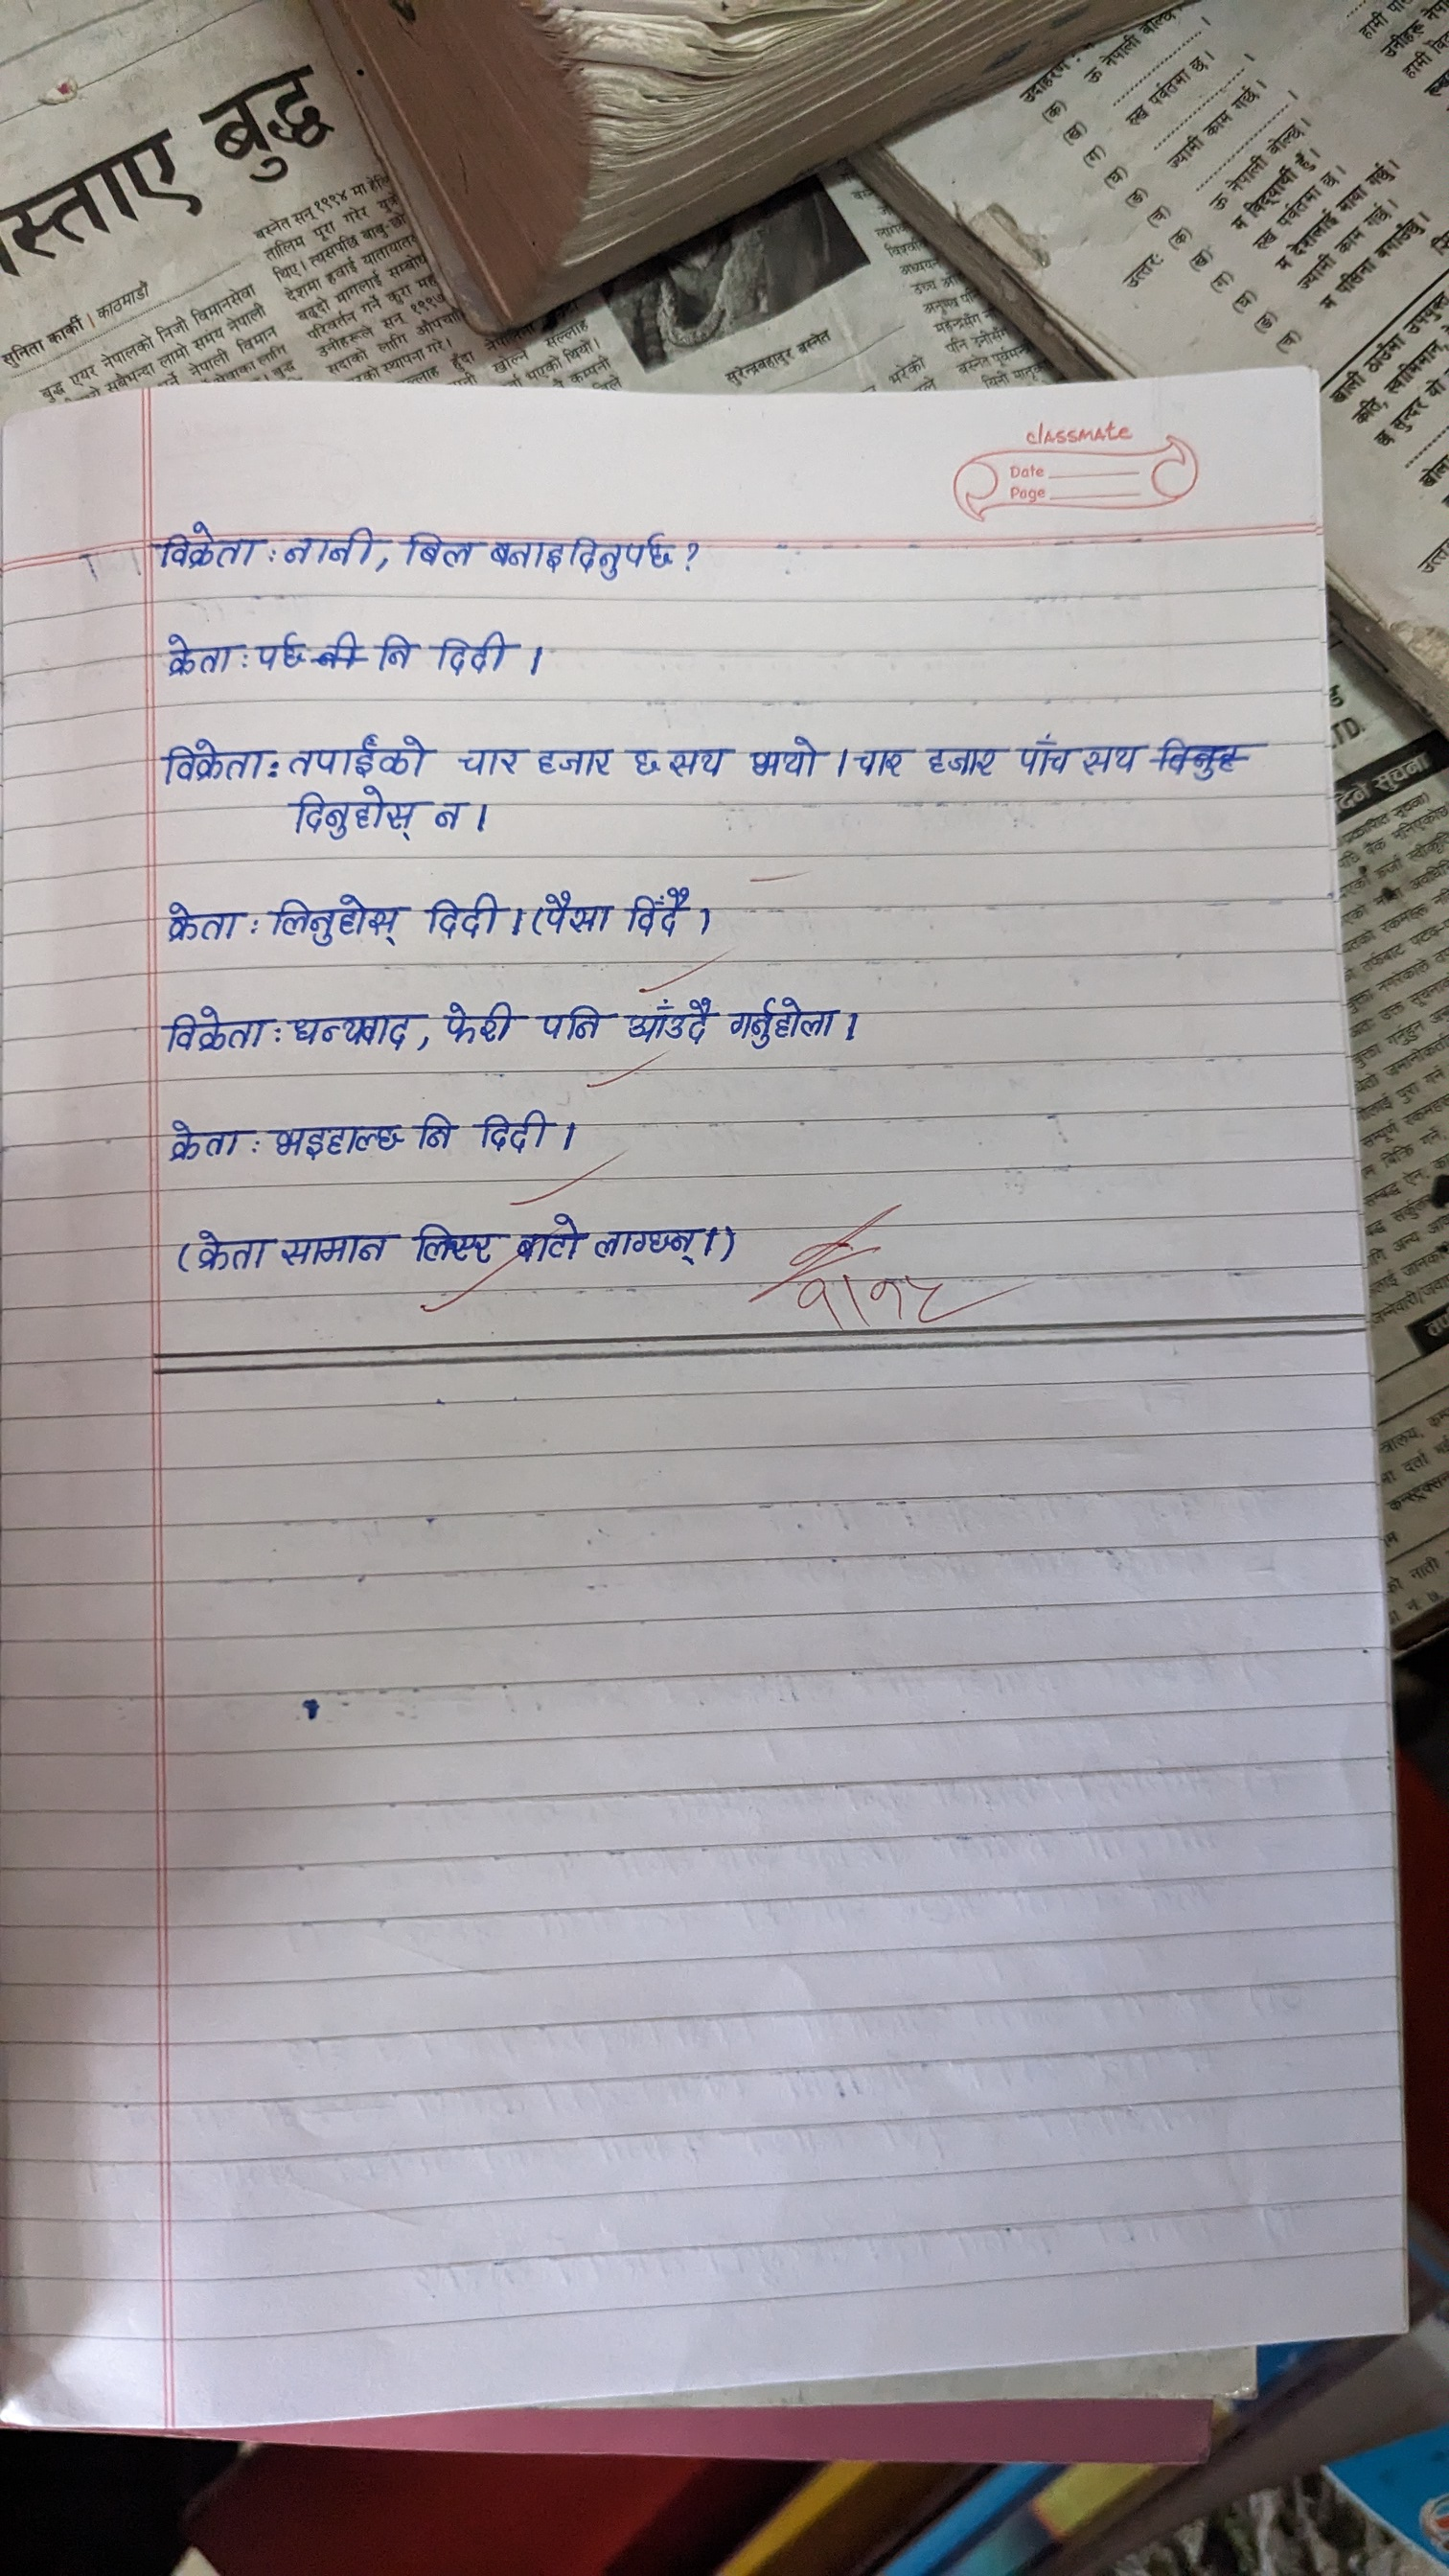text: (265, 1106, 407, 1175), (488, 531, 681, 580), (281, 1210, 395, 1283), (285, 1008, 426, 1062), (269, 893, 409, 945), (287, 789, 416, 844), (285, 732, 432, 780), (727, 993, 839, 1051), (600, 1212, 711, 1270), (156, 734, 265, 791), (157, 1007, 267, 1063), (152, 513, 260, 570), (515, 1207, 587, 1281), (416, 1210, 488, 1283), (280, 524, 375, 577), (628, 996, 717, 1049), (414, 1095, 469, 1178), (154, 628, 242, 679), (157, 897, 246, 947), (159, 1122, 248, 1171), (179, 1226, 267, 1276), (536, 994, 607, 1054), (402, 520, 474, 577), (439, 994, 508, 1053), (432, 623, 510, 674), (425, 888, 502, 939), (534, 888, 612, 939), (621, 890, 699, 941), (918, 738, 998, 787), (474, 1104, 550, 1155), (370, 619, 421, 688), (425, 791, 479, 853), (458, 732, 524, 784), (536, 738, 614, 780), (251, 626, 320, 674), (669, 738, 732, 789), (750, 738, 826, 780), (849, 741, 908, 784), (1081, 740, 1139, 782), (1016, 732, 1065, 780), (619, 741, 667, 784)
